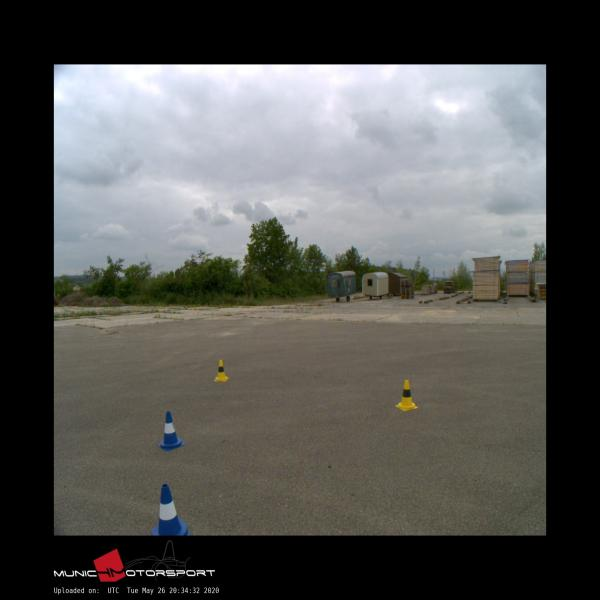blue_cone: (152, 484, 190, 535), (158, 411, 184, 450)
yellow_cone: (395, 380, 417, 410), (214, 360, 228, 381)
